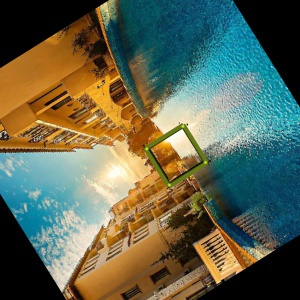square: (142, 123, 210, 188)
